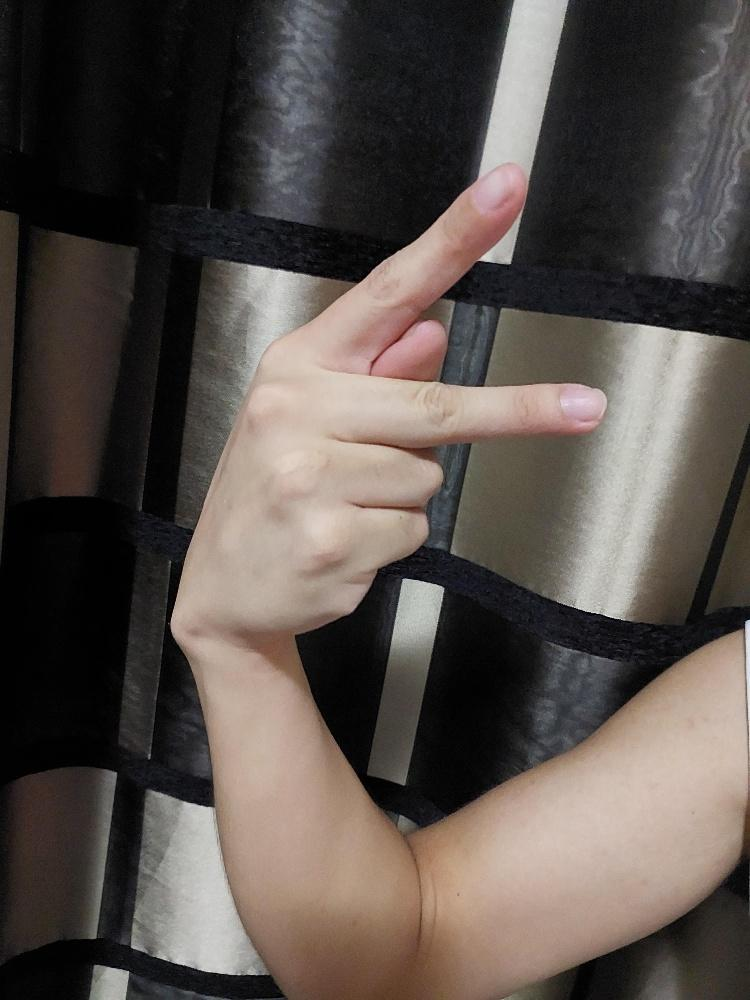k: (167, 160, 608, 650)
